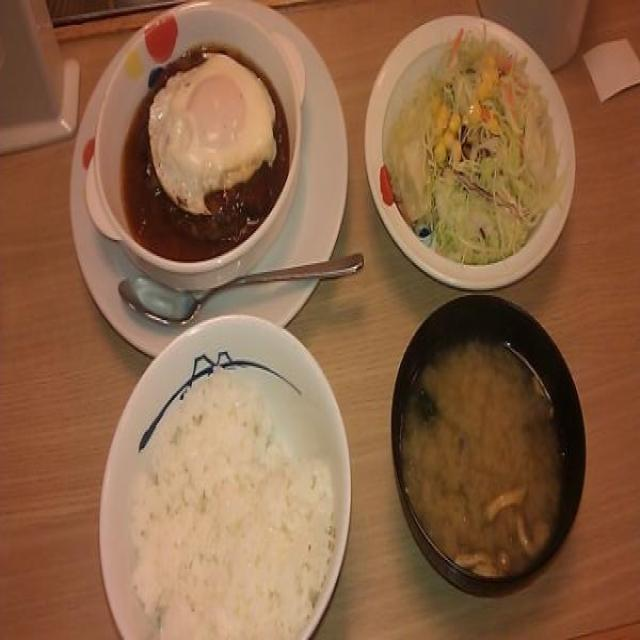Green Salad: (394, 38, 547, 245)
Rice: (129, 357, 328, 636)
